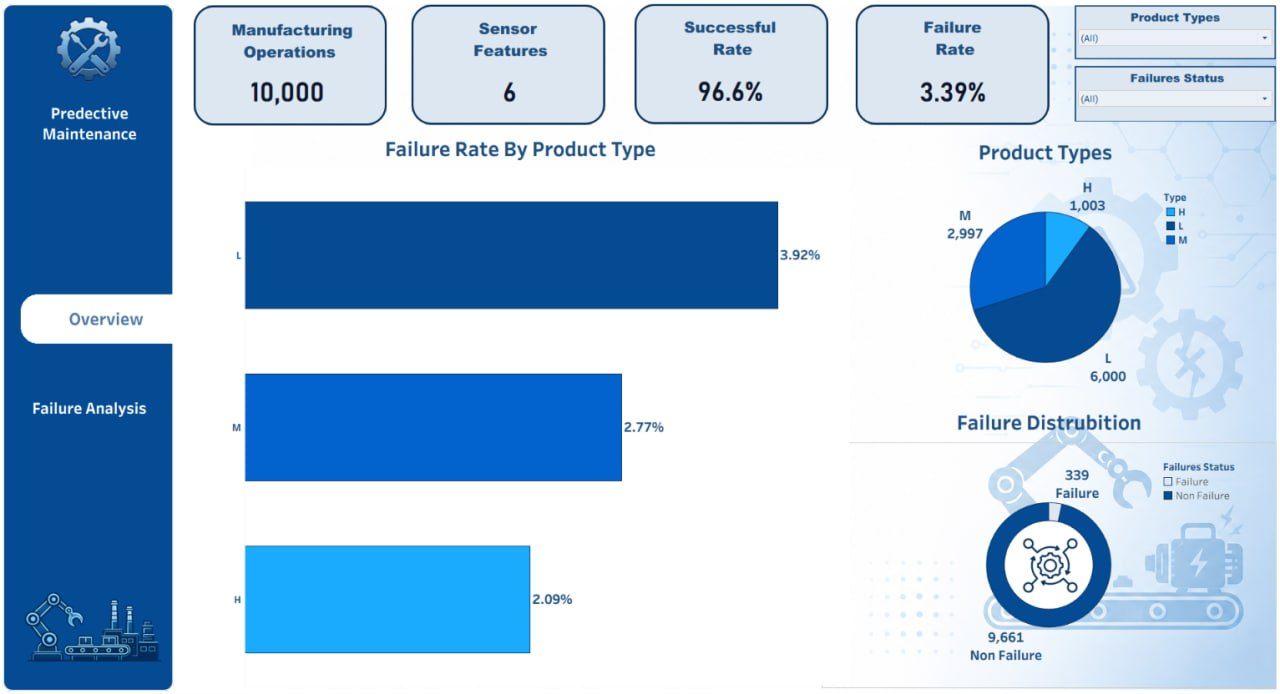

The page's visual inventory and layout, read from the dashboard file:
{"tool":"tableau","page":{"name":"Overview Dashboard ","canvas":[1000,1000],"units":"permille","ordinal":2},"visuals":[{"type":"text","box":[326.4,0,141.2,115.3]},{"type":"text","box":[156.5,2.2,141.2,115.3]},{"type":"filter","title":"Filters","param":"[federated.16gqypb1jf3p4e13n2jmn0khdx1f].[none:Type:nk]","box":[838.9,8.8,156.9,77.9]},{"type":"image","param":"Image/Logo.png","box":[6.4,14.3,126.1,141.6]},{"type":"worksheet","title":"Filters","mark":"Automatic","box":[840,31.8,24.9,23.1]},{"type":"text","box":[488.9,88.9,163.1,91.1]},{"type":"text","box":[143.6,90,163.2,91.1]},{"type":"text","box":[316.8,90,163.6,91.1]},{"type":"text","box":[662.6,90,163.2,91.1]},{"type":"filter","title":"Filters","param":"[federated.16gqypb1jf3p4e13n2jmn0khdx1f].[none:Calculation_2222132773015552:nk]","box":[838.9,95.5,156.9,80.1]},{"type":"text","box":[8.5,115.3,125,125.1]},{"type":"worksheet","title":"Failure Rate By Product Type","mark":"Bar","rows":["Type"],"cols":["Calculation_1767759852347401"],"box":[149.9,189.9,513.8,795.8]},{"type":"worksheet","title":"Machine Types","mark":"Pie","box":[637.7,194.3,357.5,384.2]},{"type":"legend","title":"Machine Types","param":"[federated.16gqypb1jf3p4e13n2jmn0khdx1f].[none:Type:nk]","box":[908.4,274.4,84.2,93.3]},{"type":"dashboard-object","box":[16.9,423.7,133.5,71.4]},{"type":"dashboard-object","box":[16.9,552.1,108,71.4]},{"type":"worksheet","title":"Failure Distrubition","mark":"Pie","rows":["Calculation_1767759868809227","Calculation_1767759868809227"],"box":[641.4,582.9,354.9,406.2]},{"type":"legend","title":"Failure Distrubition","param":"[federated.16gqypb1jf3p4e13n2jmn0khdx1f].[none:Calculation_2222132773015552:nk]","box":[906.2,661.9,84.2,85.6]},{"type":"image","param":"Image/icon.png","box":[797.7,772.8,44,83.4]}]}

Visuals, with their boxes on the dashboard's canvas, which has no fixed pixel size, in thousandths of its width and height (x1, y1, x2, y2). These are canvas units, not pixel positions in the 1280x694 screenshot, which may show the page scaled, cropped or inside an application window:
text: <box>326,0,468,115</box>
text: <box>156,2,298,118</box>
"Filters" filter: <box>839,9,996,87</box>
image: <box>6,14,132,156</box>
"Filters" worksheet: <box>840,32,865,55</box>
text: <box>489,89,652,180</box>
text: <box>144,90,307,181</box>
text: <box>317,90,480,181</box>
text: <box>663,90,826,181</box>
"Filters" filter: <box>839,96,996,176</box>
text: <box>8,115,134,240</box>
"Failure Rate By Product Type" worksheet (Bar marks): <box>150,190,664,986</box>
"Machine Types" worksheet (Pie marks): <box>638,194,995,578</box>
"Machine Types" legend: <box>908,274,993,368</box>
dashboard-object: <box>17,424,150,495</box>
dashboard-object: <box>17,552,125,624</box>
"Failure Distrubition" worksheet (Pie marks): <box>641,583,996,989</box>
"Failure Distrubition" legend: <box>906,662,990,748</box>
image: <box>798,773,842,856</box>
